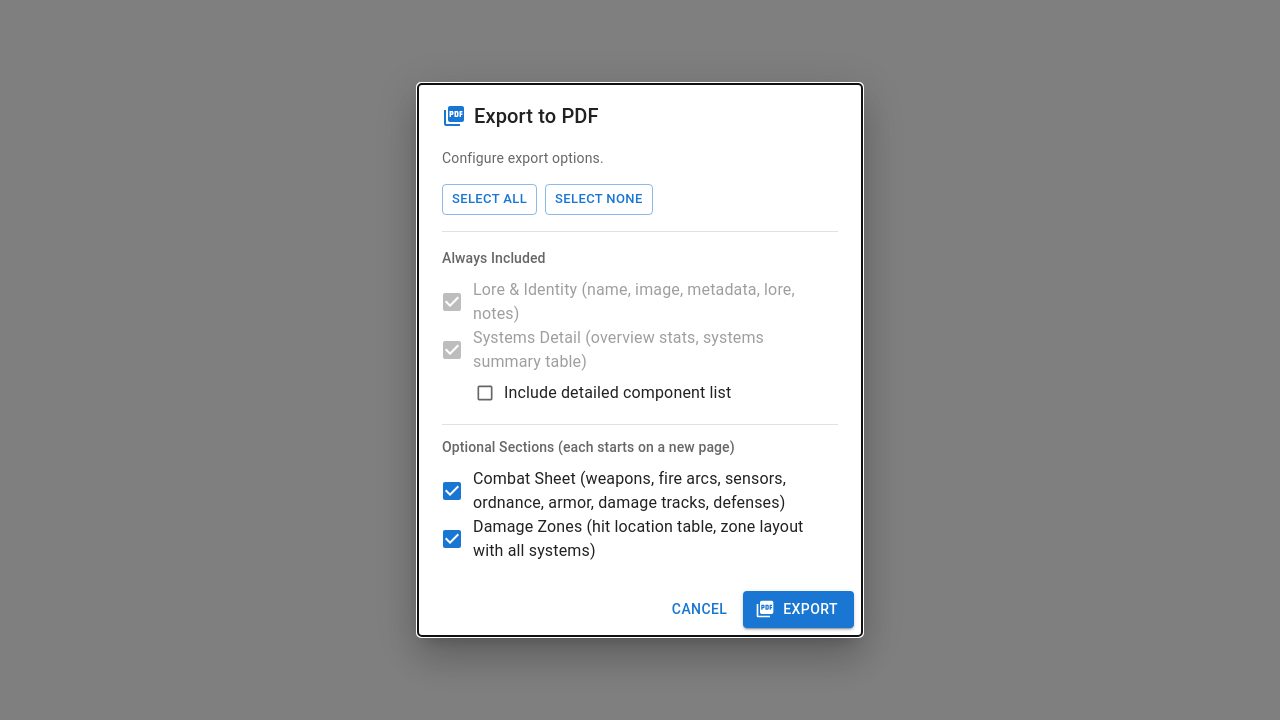
PdfExportDialog › Full Ship Sheet mode (default) › Select All checks all sections
# First uncheck all, then check all
Click the button "Select None": (599,200) x1=545 y1=184 x2=653 y2=215
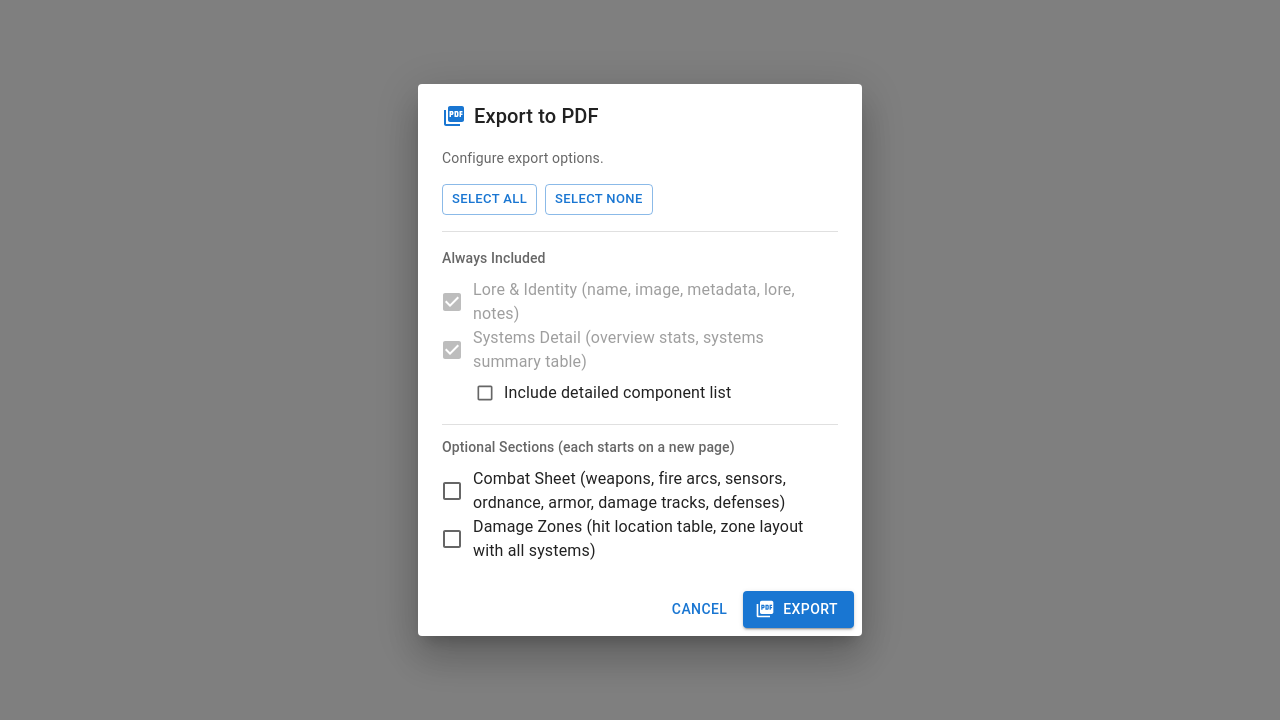
Click the button "Select All": (490,200) x1=442 y1=184 x2=537 y2=215
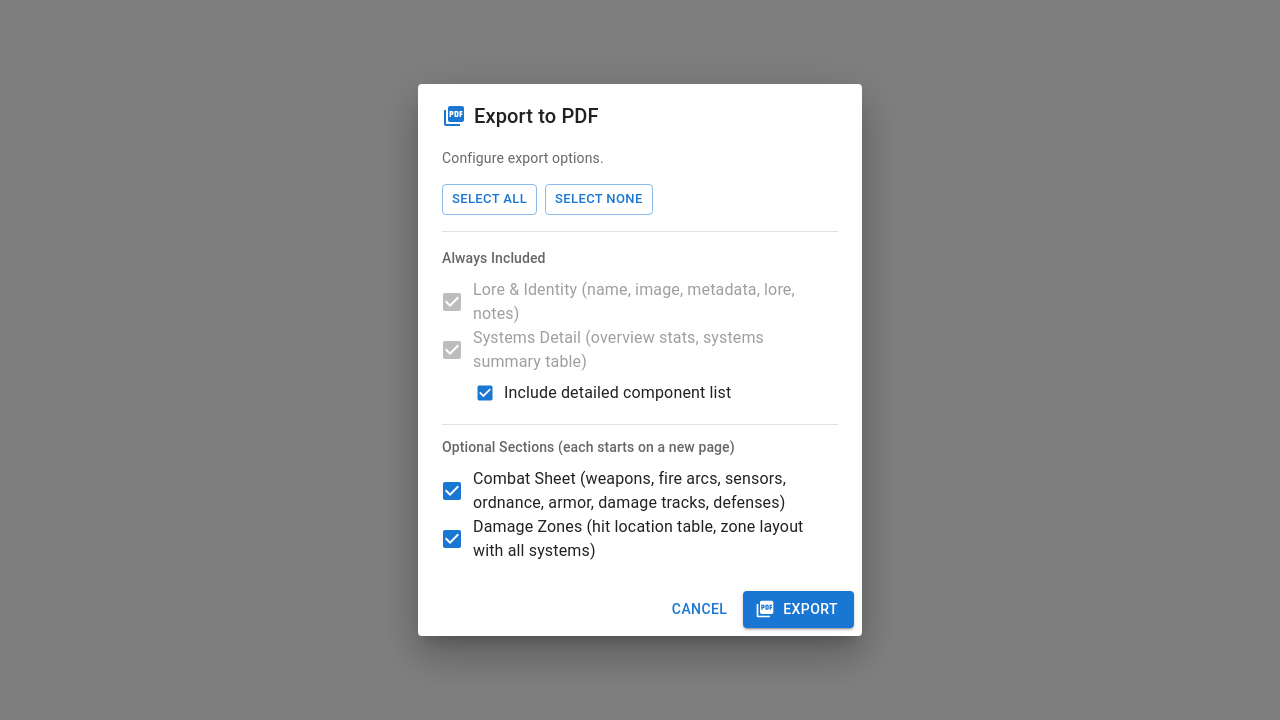
Expected: the checkbox labelled "Combat Sheet" is checked, x1=431 y1=467 x2=822 y2=515
Expected: the checkbox labelled "Damage Zones" is checked, x1=431 y1=515 x2=822 y2=563
Expected: the checkbox labelled "Include detailed component list" is checked, x1=475 y1=383 x2=731 y2=403
